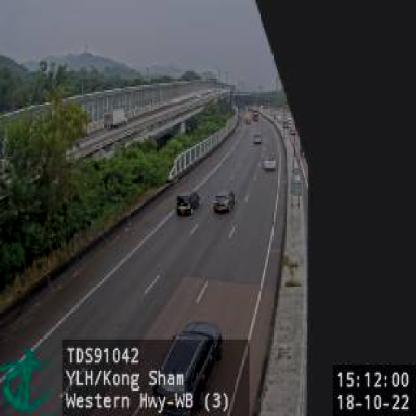Car: (150, 320, 224, 411), (174, 188, 200, 218), (213, 186, 236, 215), (262, 154, 276, 172), (254, 132, 263, 144)
